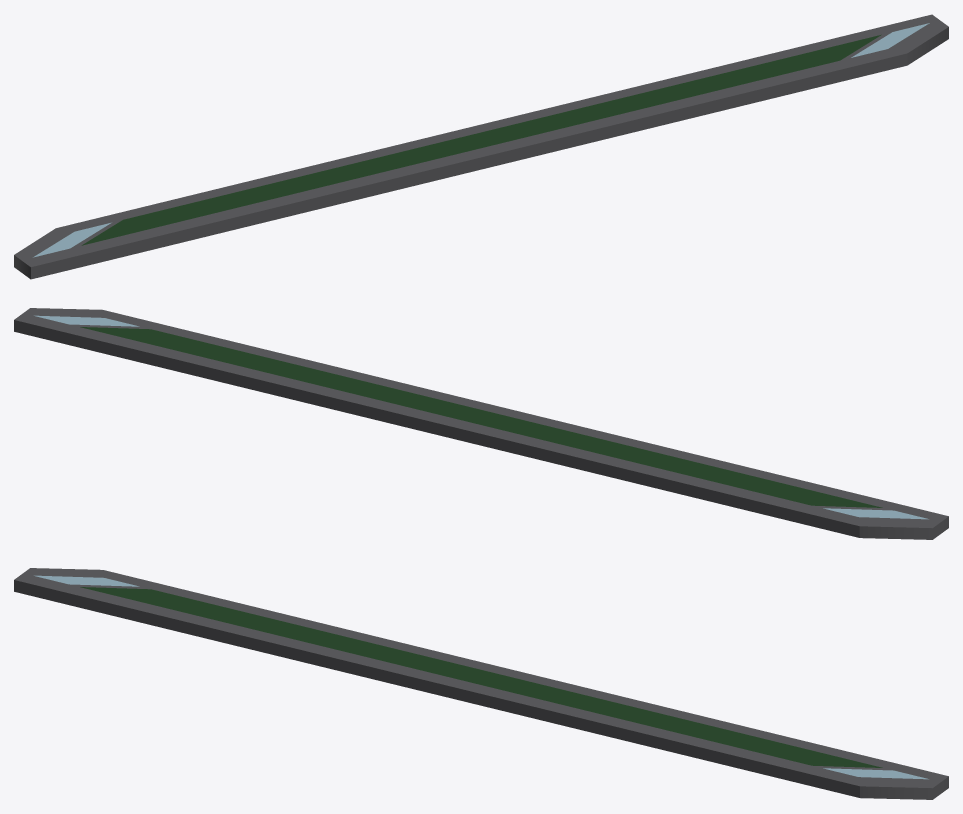
File: W_O_Flowerbed_002_L3.fbx
3 renders of one model, top to bottom at view 1: azimuth 30°, elevation 25°; view 2: azimuth 150°, elevation 25°; view 3: azimuth 330°, elevation 25°, orthographic. The views are drawn at different scales.
Parts seen in each view (by area): view 1: W_O_Flowerbed_002_L3; view 2: W_O_Flowerbed_002_L3; view 3: W_O_Flowerbed_002_L3.
Part boxes in pixels (box(x1,y1,x2,y2)): W_O_Flowerbed_002_L3: box(14, 14, 948, 279); W_O_Flowerbed_002_L3: box(14, 308, 948, 539); W_O_Flowerbed_002_L3: box(14, 568, 948, 799).
Size of the model in its own units: 8 by 0.105 by 0.5.
